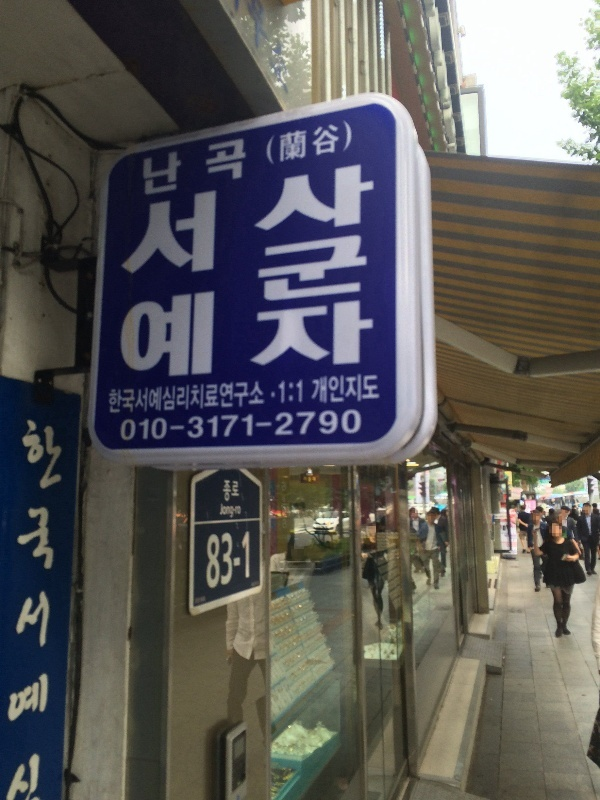text: (33, 417, 48, 797), (49, 417, 64, 797), (20, 417, 32, 797), (257, 160, 272, 370), (273, 160, 288, 370), (289, 160, 304, 370), (305, 160, 320, 370), (321, 160, 336, 370), (337, 160, 352, 370), (353, 160, 368, 370), (129, 187, 144, 384), (145, 187, 160, 384), (161, 187, 176, 384), (177, 187, 192, 384), (193, 187, 208, 384), (209, 187, 218, 384), (369, 160, 376, 370), (145, 135, 160, 201), (161, 135, 176, 201), (177, 135, 192, 201), (193, 135, 208, 201), (209, 135, 224, 201), (225, 135, 240, 201), (123, 187, 128, 384), (209, 532, 224, 591), (273, 115, 288, 166), (289, 115, 304, 166), (305, 115, 320, 166), (321, 115, 336, 166), (337, 115, 352, 166), (65, 417, 67, 797), (242, 532, 256, 580), (113, 379, 128, 417), (129, 379, 144, 417), (145, 379, 160, 417), (161, 379, 176, 417), (177, 379, 192, 417), (193, 379, 208, 417), (209, 379, 224, 417), (225, 379, 240, 417), (241, 379, 256, 417), (321, 372, 336, 410), (337, 372, 352, 410), (353, 372, 368, 410), (289, 409, 304, 443), (305, 409, 320, 443), (321, 409, 336, 443), (337, 409, 352, 443), (225, 532, 233, 591), (369, 372, 381, 410), (289, 378, 304, 407), (129, 416, 144, 445), (145, 416, 160, 445), (276, 409, 288, 443), (241, 135, 247, 201), (193, 414, 208, 439), (209, 414, 224, 439), (225, 414, 240, 439), (225, 480, 240, 503), (257, 379, 266, 417), (311, 372, 320, 410), (353, 409, 363, 443), (266, 115, 272, 166), (241, 414, 253, 439), (278, 378, 288, 407), (225, 503, 241, 519), (161, 416, 167, 445), (123, 416, 128, 445), (142, 135, 144, 201), (257, 421, 273, 429), (206, 532, 208, 591), (109, 379, 112, 417), (188, 414, 192, 439), (219, 503, 224, 519), (234, 557, 240, 567), (353, 115, 354, 166), (177, 425, 185, 431), (222, 480, 224, 503), (170, 425, 176, 431)
